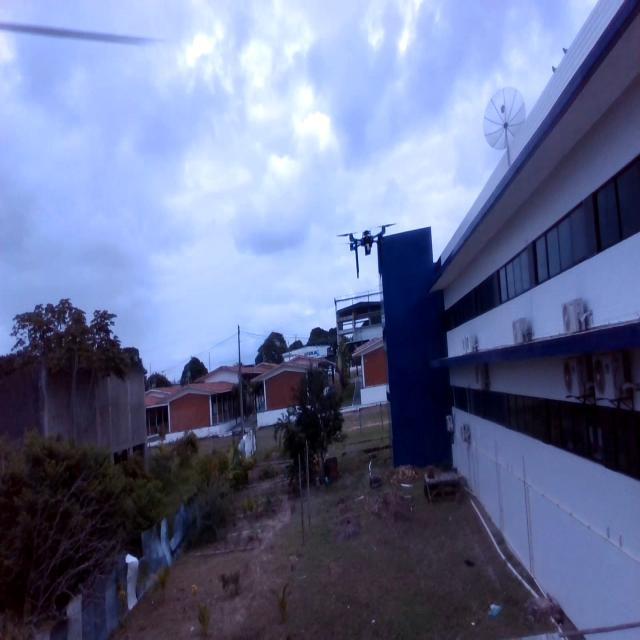-uav-: (336, 213, 396, 277)
